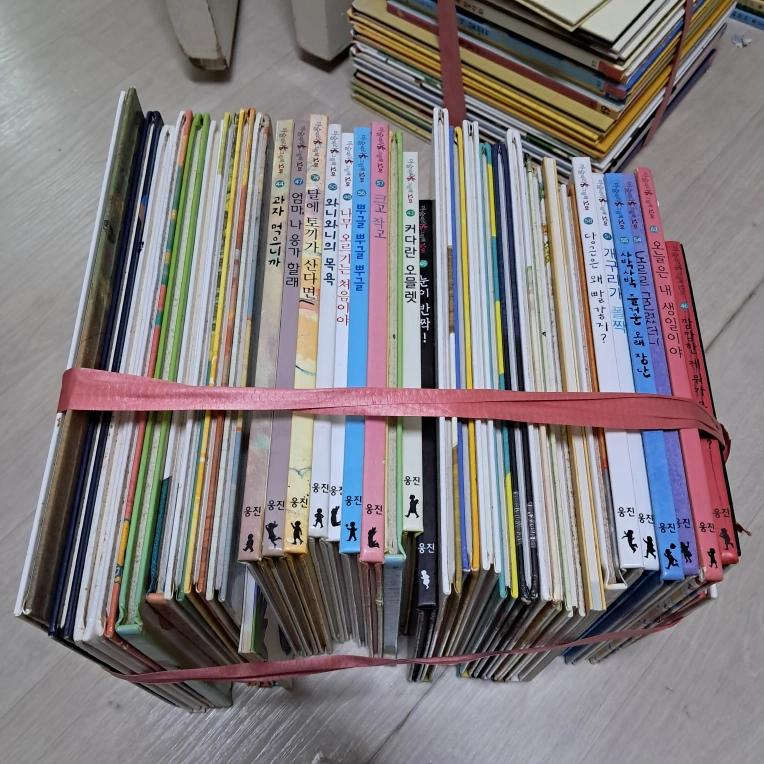book: (14, 87, 745, 713)
